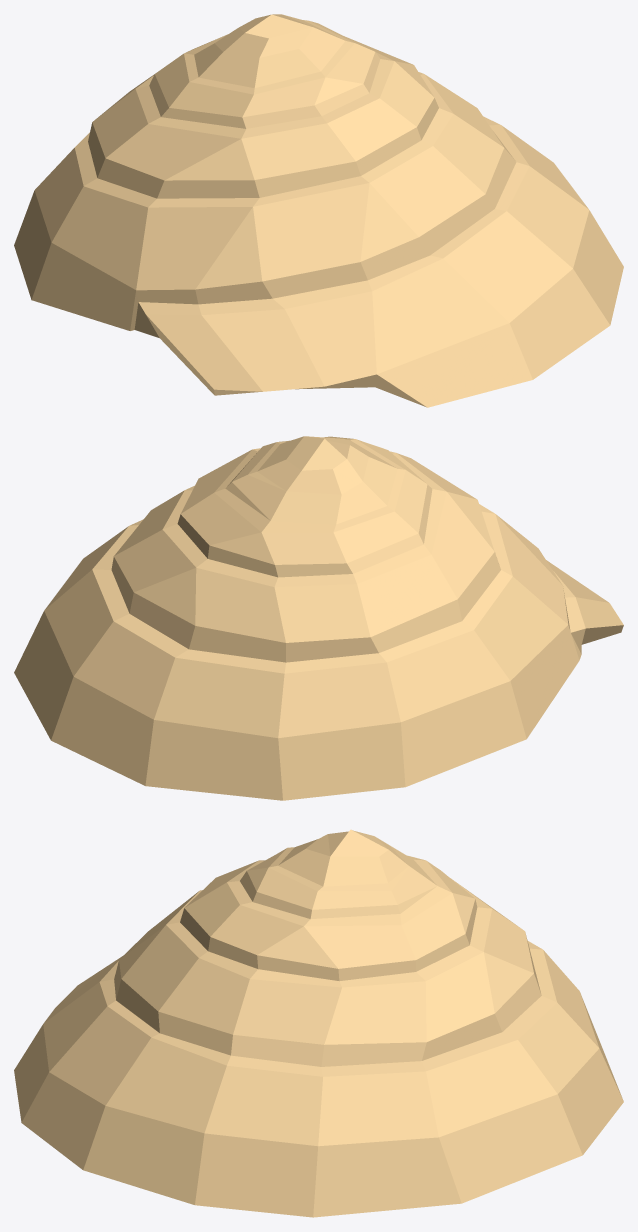
Rendered from Coral_04.fbx.
3 views of the same model, one above another, from view 1: azimuth 30°, elevation 25°; view 2: azimuth 150°, elevation 25°; view 3: azimuth 270°, elevation 25° (orthographic). The views are drawn at different scales.
Parts seen in each view (by area): view 1: Coral_04; view 2: Coral_04; view 3: Coral_04.
Part boxes in pixels (box(x1,y1,x2,y2)): Coral_04: box(14, 14, 623, 407); Coral_04: box(14, 436, 623, 800); Coral_04: box(14, 829, 623, 1217).
Bounding box in the file's own units: 48.47 × 23.65 × 51.68.
